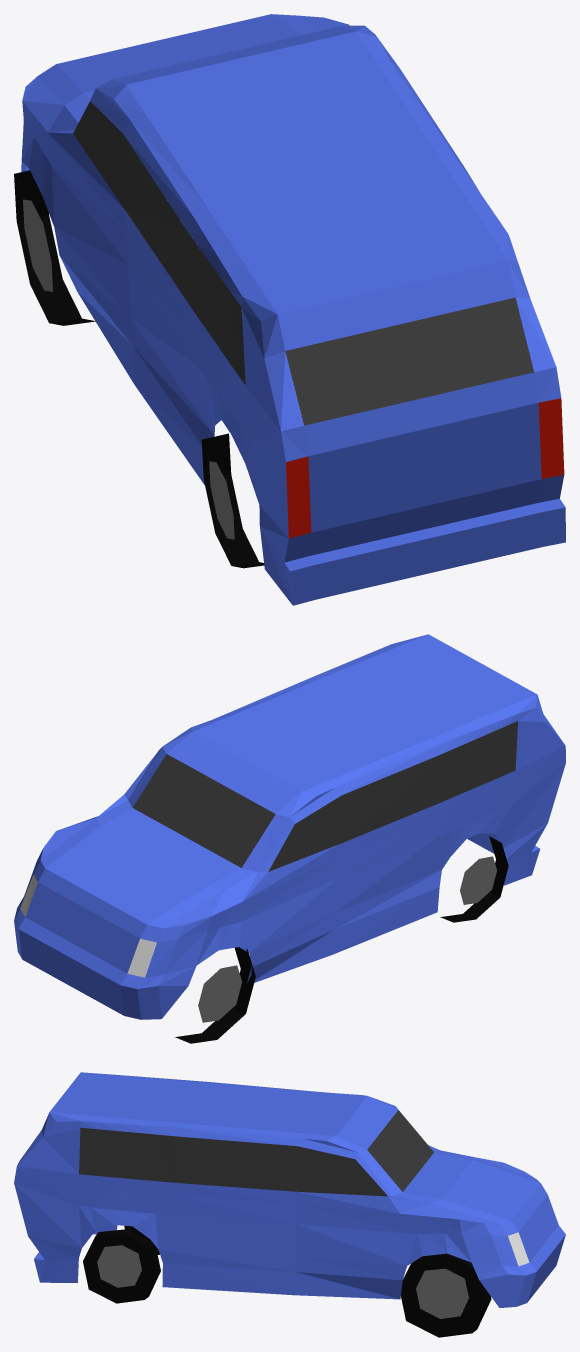
Rendered from 04_CarAnimation.glb.
3 renders of one model, top to bottom at view 1: azimuth 30°, elevation 25°; view 2: azimuth 150°, elevation 25°; view 3: azimuth 270°, elevation 25°, orthographic. The views are drawn at different scales.
Visible parts, largest first — view 1: SM_SUV_01; view 2: SM_SUV_01; view 3: SM_SUV_01.
Boxes of the visible parts, left/top/right/bottom form: SM_SUV_01: left=14, top=14, right=565, bottom=605; SM_SUV_01: left=14, top=634, right=565, bottom=1043; SM_SUV_01: left=14, top=1072, right=565, bottom=1337.
Size of the model in its own units: 0.1616 by 0.117 by 0.3068.
